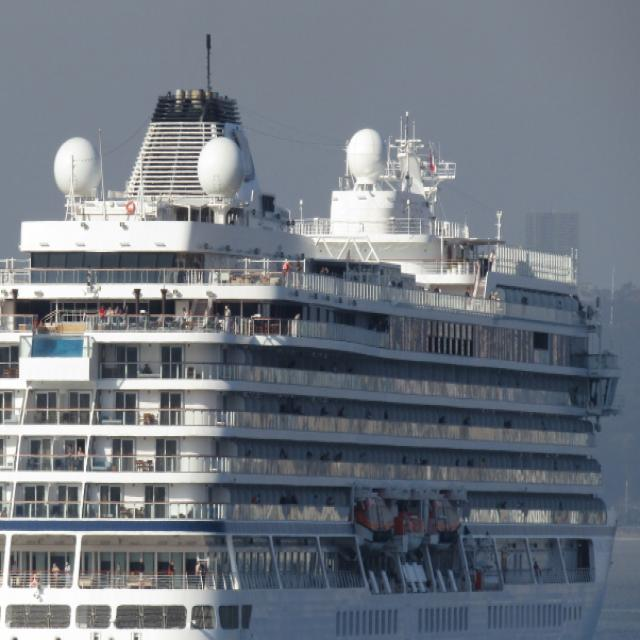cruises: (1, 35, 629, 640)
